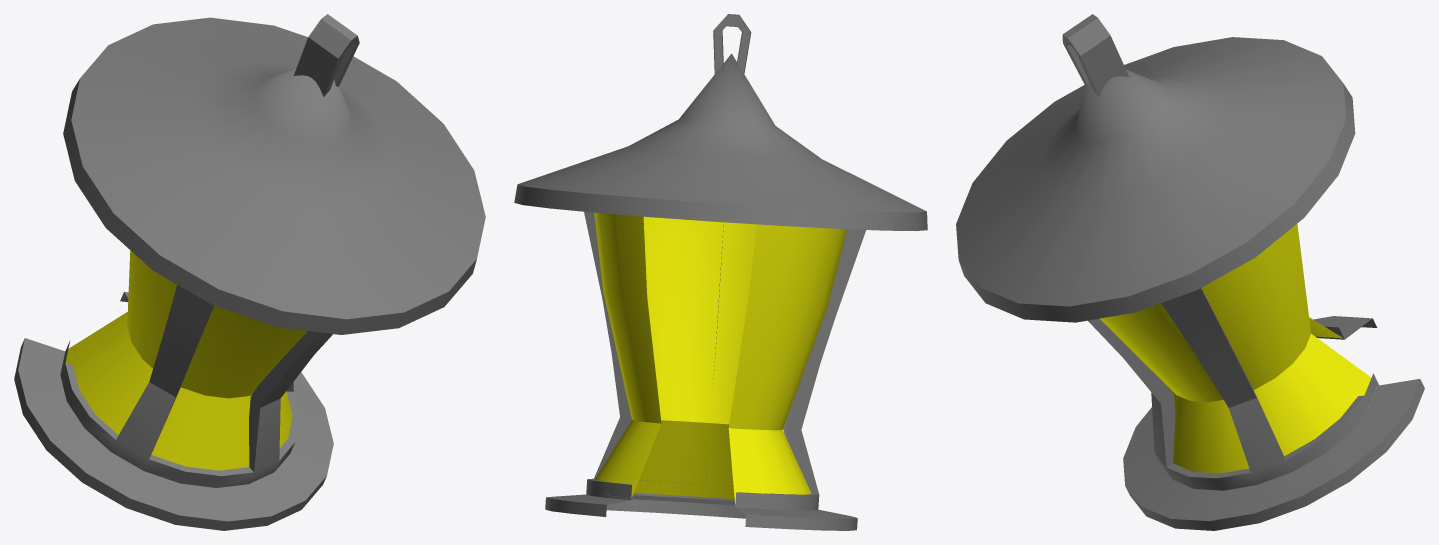
The model's file is latern.fbx.
The picture shows the model from 3 angles, left to right: view 1: azimuth 30°, elevation 25°; view 2: azimuth 150°, elevation 25°; view 3: azimuth 270°, elevation 25°; orthographic projection. The views are drawn at different scales.
Visible parts, largest first — view 1: LATERN1; view 2: LATERN1; view 3: LATERN1.
Boxes of the visible parts, x1,y1,x2,y2 form: LATERN1: (14, 14, 485, 530); LATERN1: (514, 14, 927, 530); LATERN1: (956, 14, 1424, 530).
Bounding box in the file's own units: 0.0128 × 0.0168 × 0.0143.
